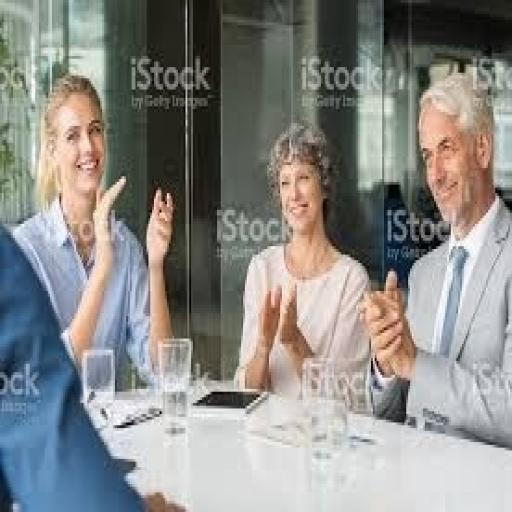clapping: (356, 70, 510, 448), (8, 70, 176, 394), (232, 118, 375, 414)
